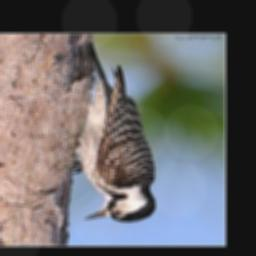Woodpecker: (66, 35, 161, 227)
